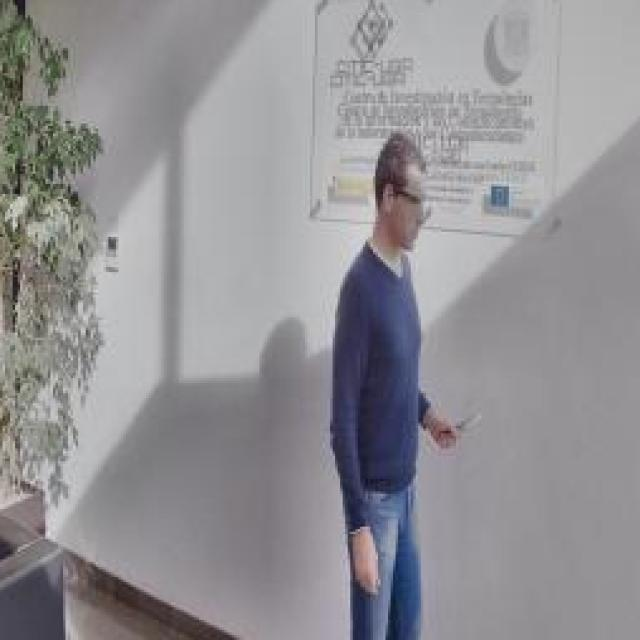knife: (436, 401, 487, 447)
